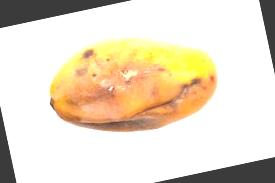Mango Overripe: (21, 13, 246, 156)
